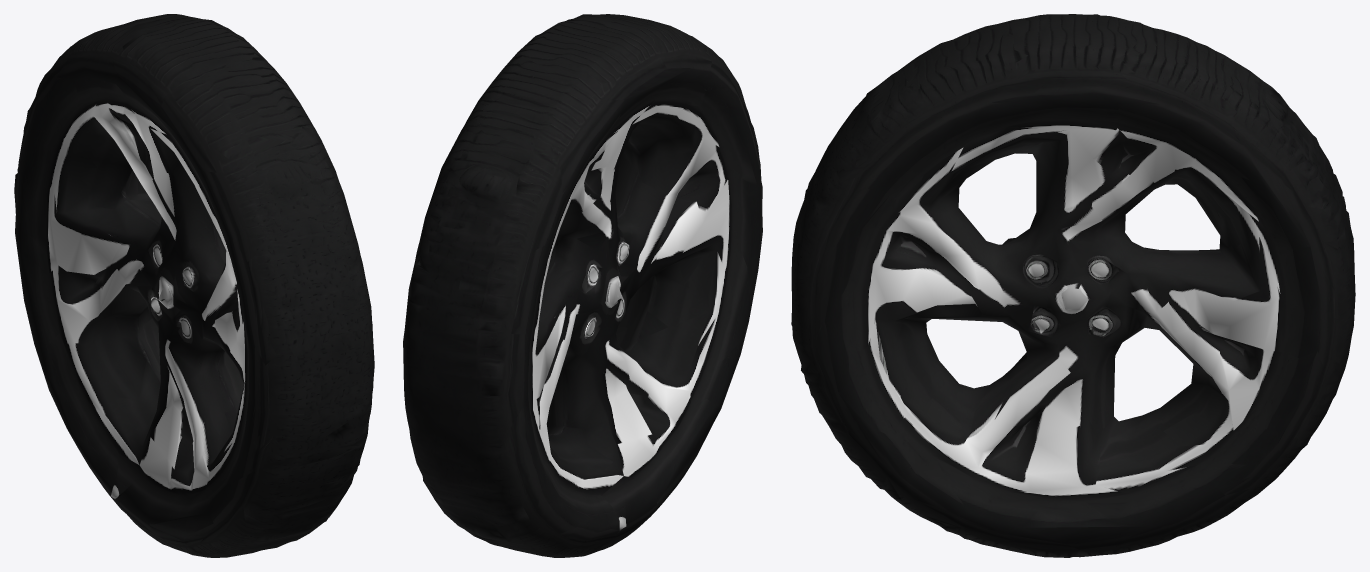
The model's file is nittaku_wheel_modern_2.obj.
3 renders of one model, left to right at view 1: azimuth 30°, elevation 25°; view 2: azimuth 150°, elevation 25°; view 3: azimuth 270°, elevation 25°, orthographic. The views are drawn at different scales.
Visible parts, largest first — view 1: wheel; view 2: wheel; view 3: wheel.
Part boxes in pixels (x1,y1,x2,y2): wheel: [14, 14, 374, 557]; wheel: [403, 14, 762, 557]; wheel: [791, 14, 1355, 557].
Bounding box in the file's own units: 0.1841 × 0.6974 × 0.6964.
